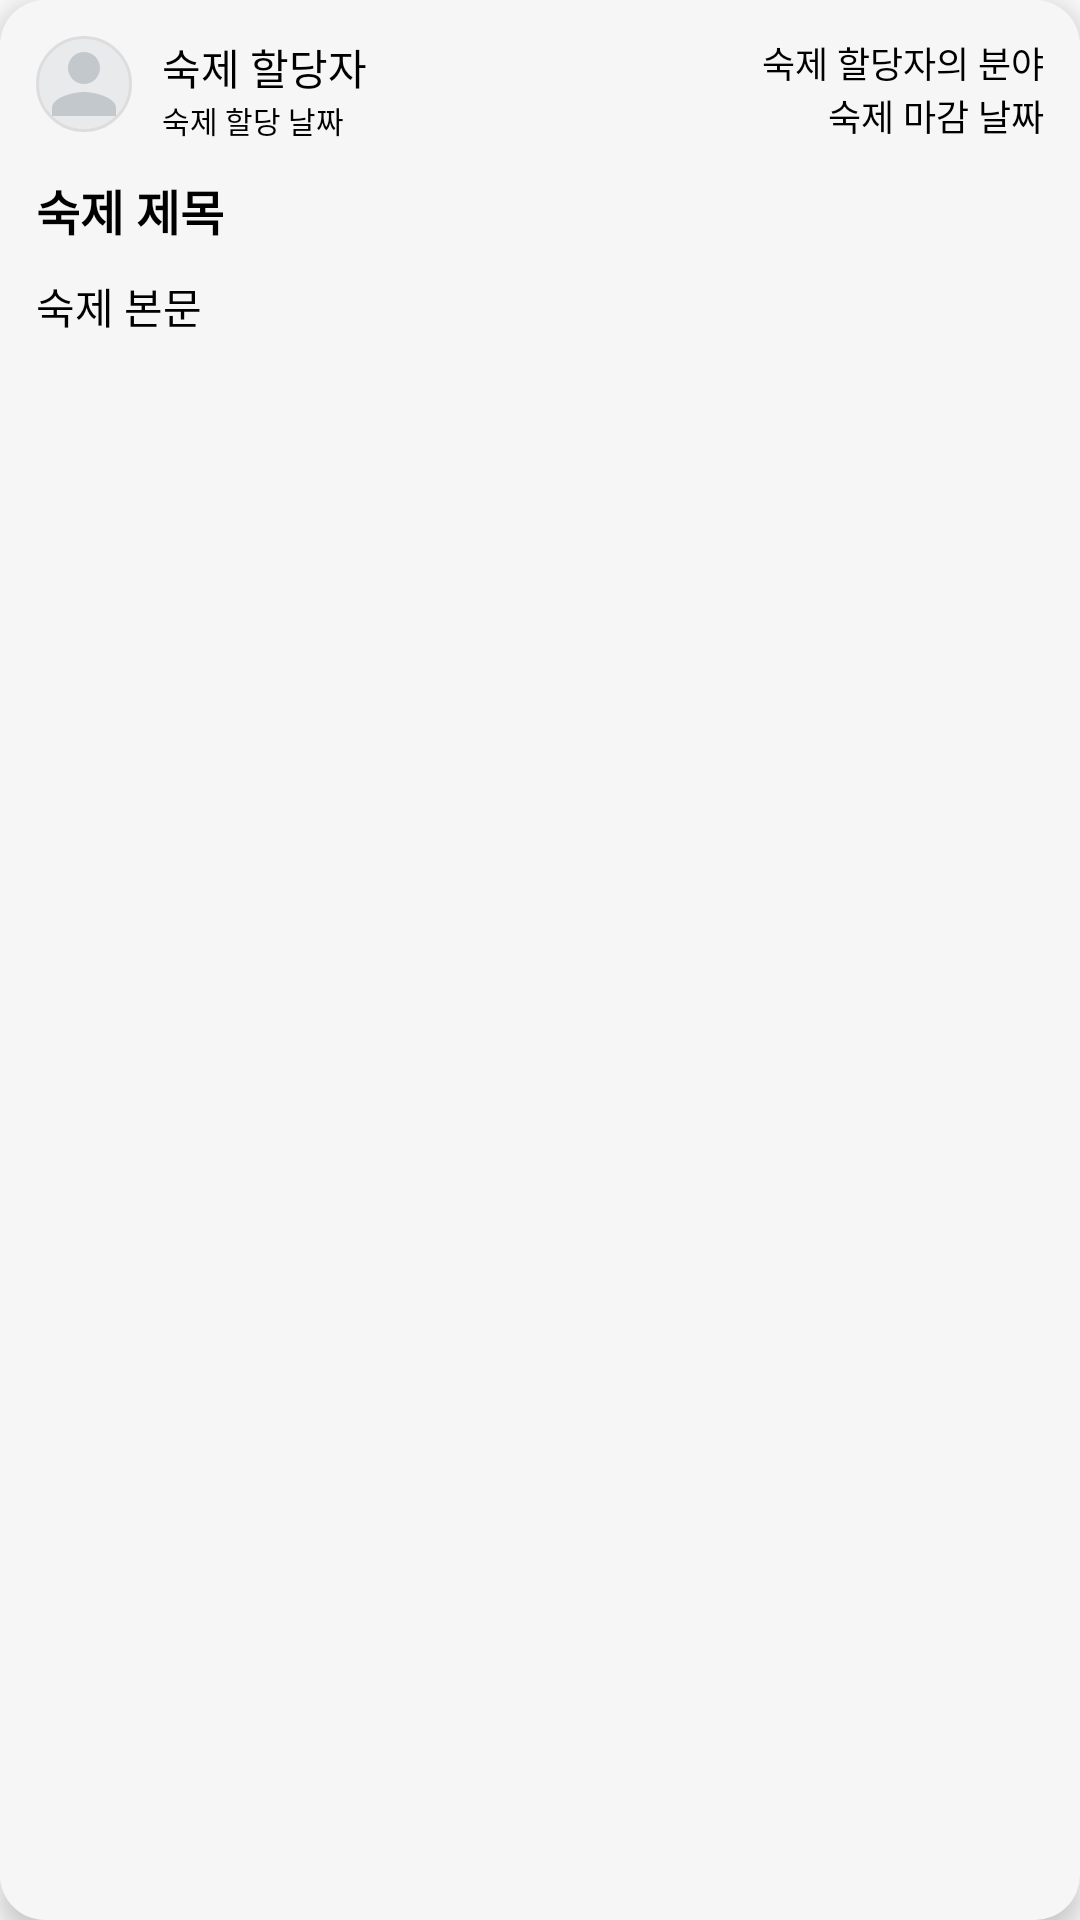

Icons on this 1080px×1920px Android screen, each with the point to tap as (x=x, y=y):
person: (x=84, y=84)
